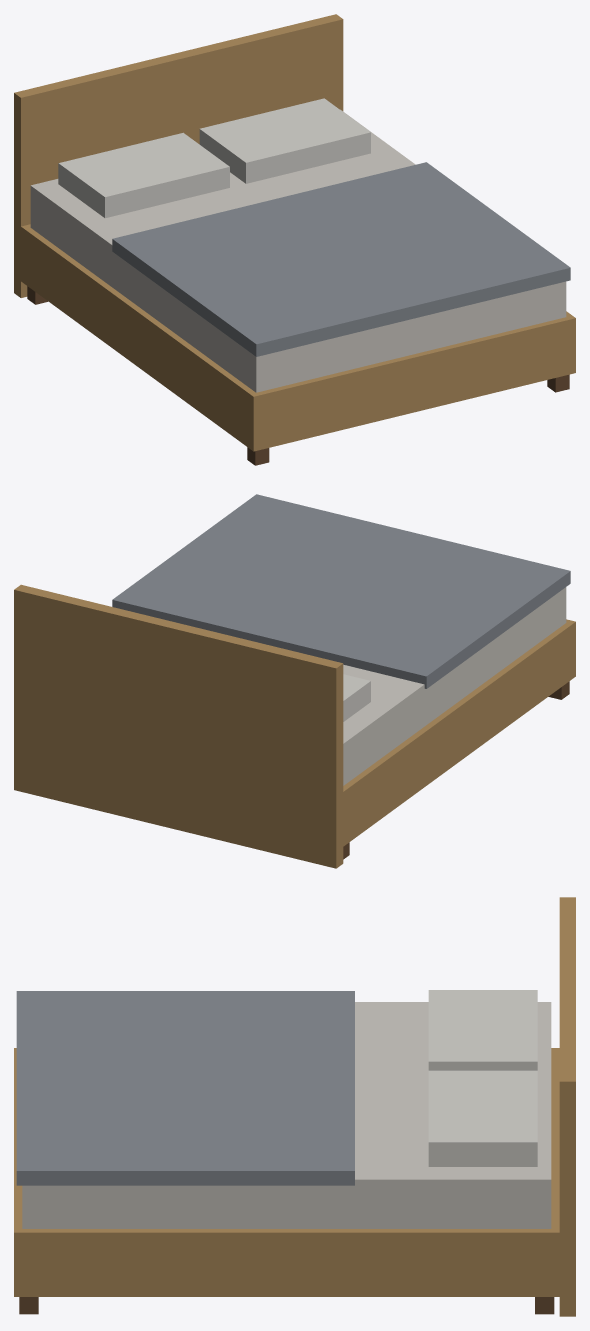
The model's file is bed_king.glb.
3 views of the same model, one above another, from view 1: azimuth 30°, elevation 25°; view 2: azimuth 150°, elevation 25°; view 3: azimuth 270°, elevation 25° (orthographic). The views are drawn at different scales.
Visible parts, largest first — view 1: bed_king; view 2: bed_king; view 3: bed_king.
Part boxes in pixels (x1,y1,x2,y2): bed_king: (14,14,575,465); bed_king: (14,494,575,868); bed_king: (14,897,575,1316).
Bounding box in the file's own units: 1.6 × 0.95 × 2.06.
